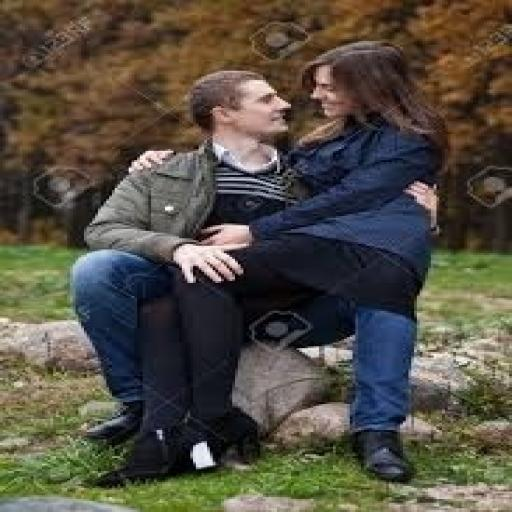sitting: (67, 39, 451, 484)
